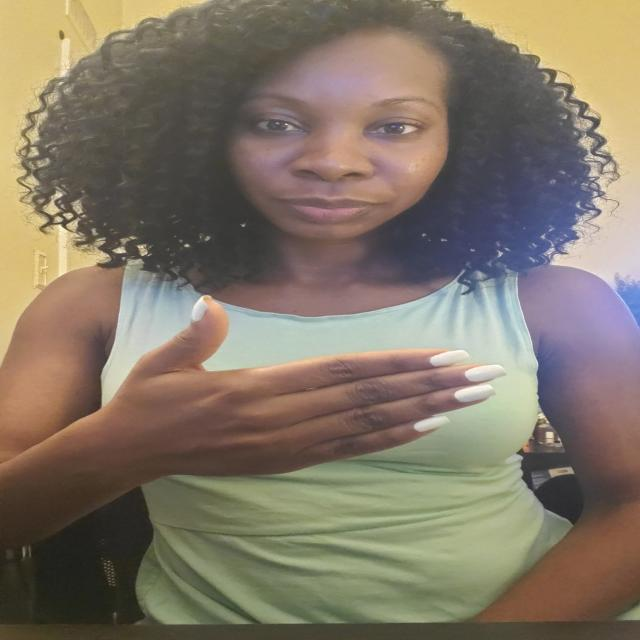Paper: (106, 289, 518, 475)
